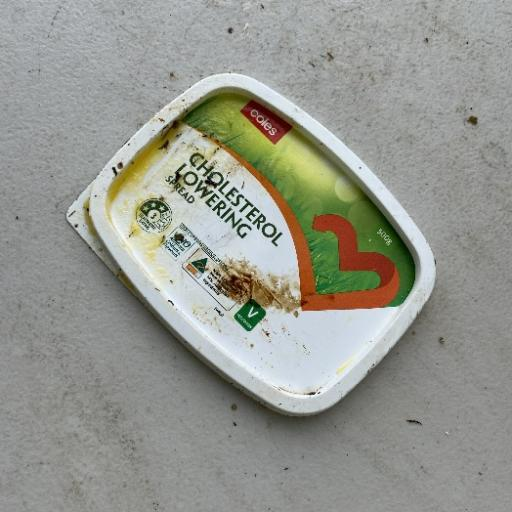Plastic: (66, 72, 438, 418)
